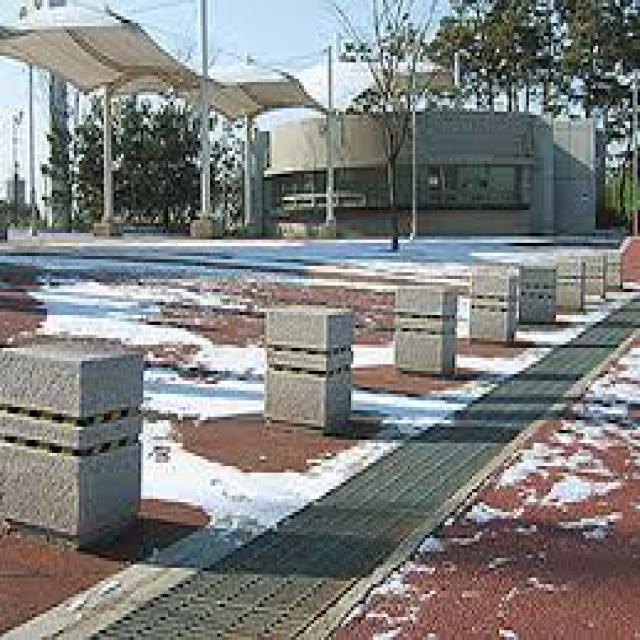bollard: (0, 333, 150, 532), (260, 298, 360, 434), (388, 277, 462, 383), (467, 262, 518, 352), (515, 252, 557, 332), (546, 249, 586, 319), (572, 249, 608, 306), (606, 249, 628, 291)
